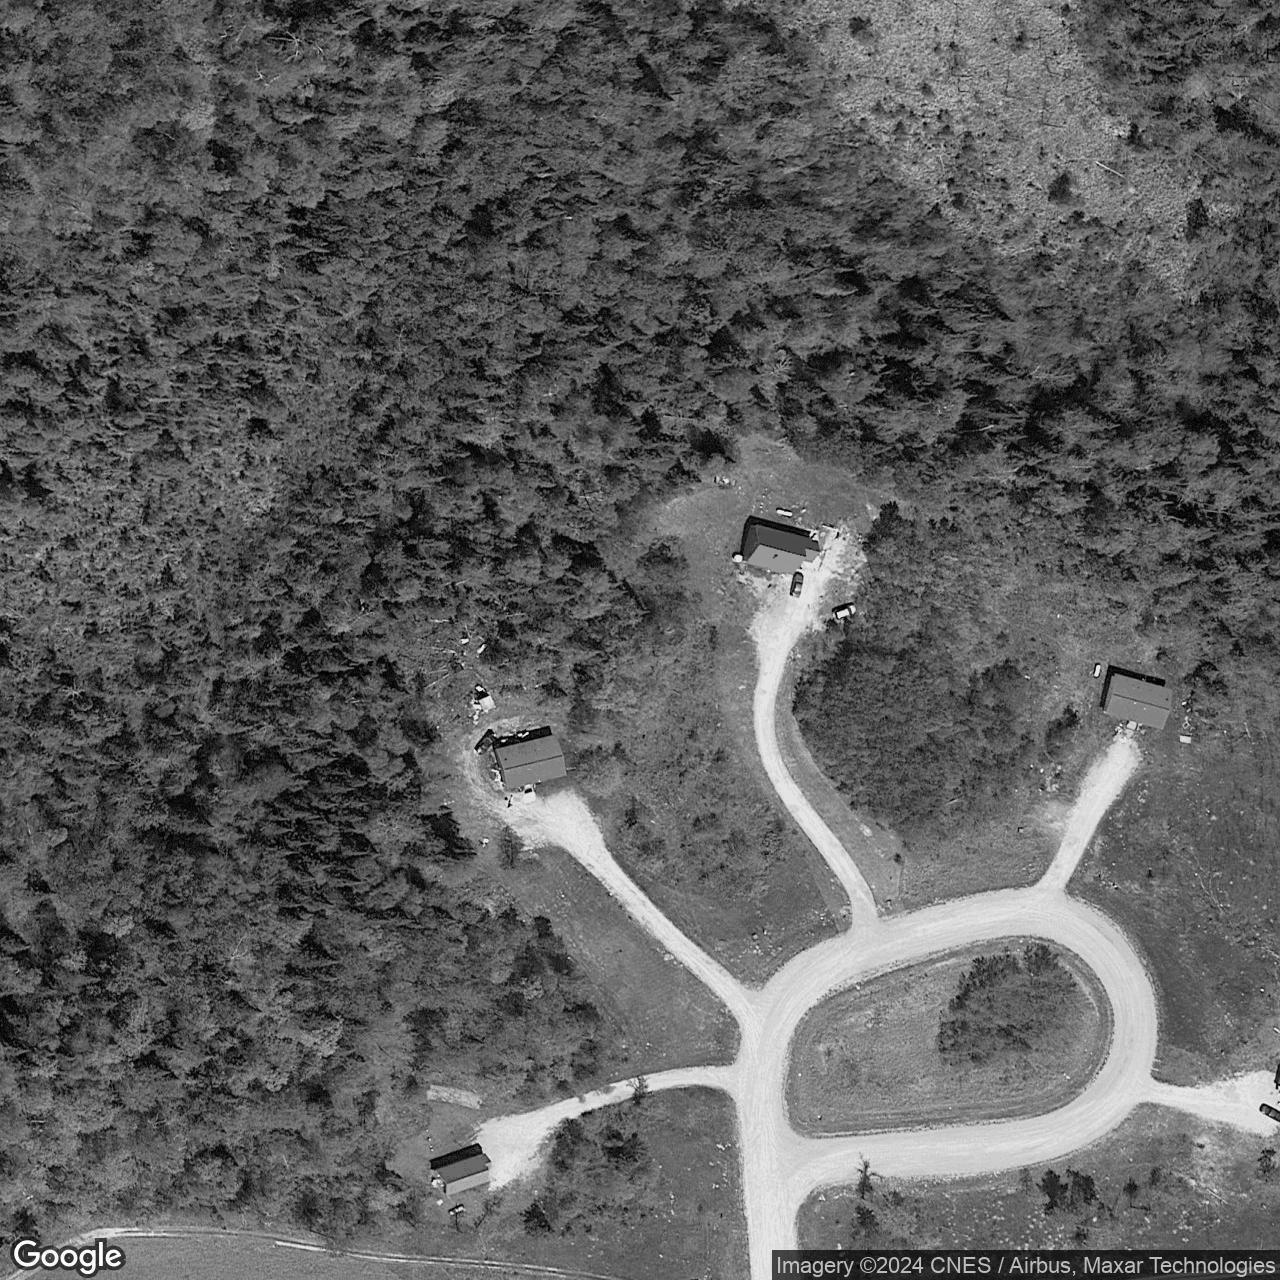House: (493, 733, 568, 791), (740, 523, 823, 576), (1102, 672, 1173, 731), (431, 1152, 492, 1198)
Propane: (445, 1201, 467, 1218), (774, 506, 795, 517), (1091, 661, 1103, 679)
